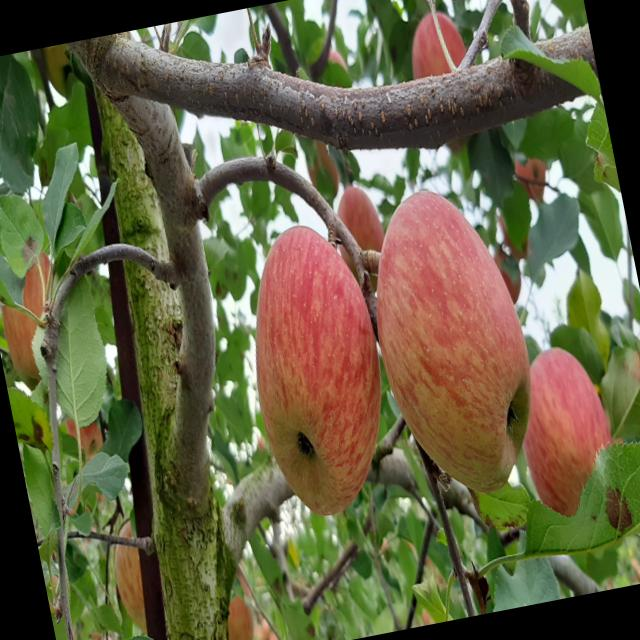fresh: (348, 164, 556, 522), (223, 203, 411, 532)
